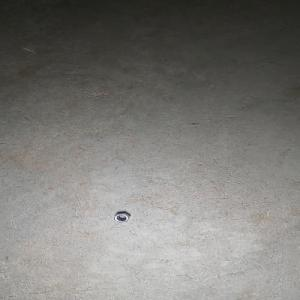Nut: (111, 211, 129, 221)
